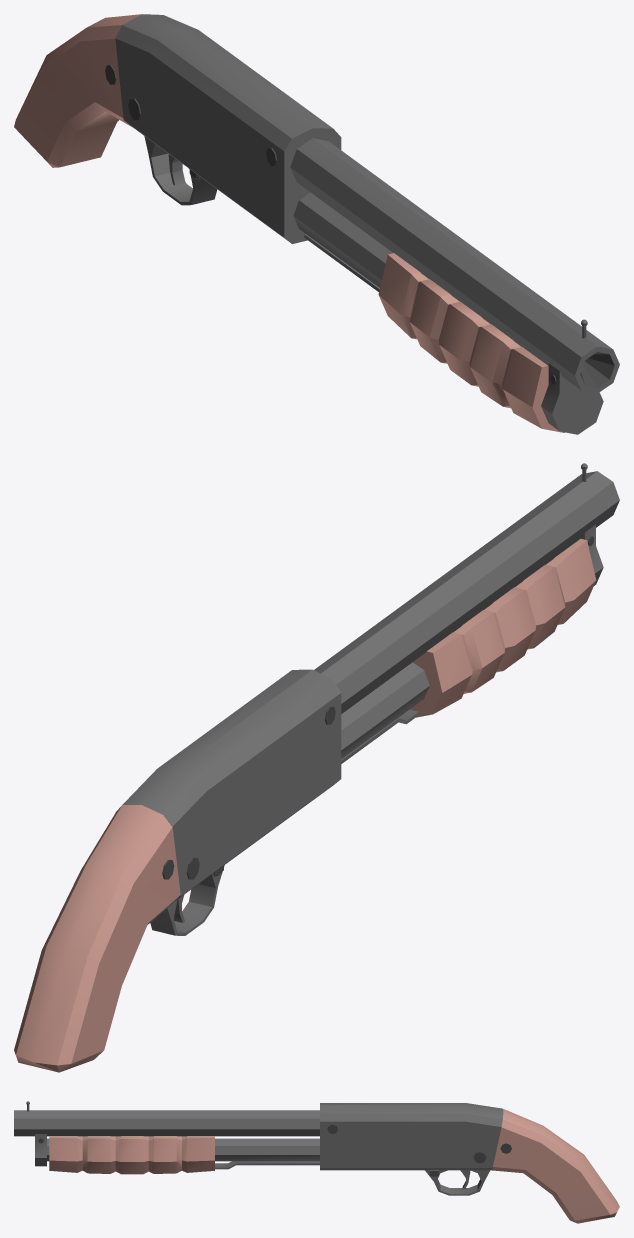
File: shotgun_pump_west.glb
3 views of the same model, one above another, from view 1: azimuth 30°, elevation 25°; view 2: azimuth 150°, elevation 25°; view 3: azimuth 270°, elevation 25° (orthographic). The views are drawn at different scales.
Parts seen in each view (by area): view 1: Shotgun_Pump_West; view 2: Shotgun_Pump_West; view 3: Shotgun_Pump_West.
Boxes of the visible parts, x1,y1,x2,y2 form: Shotgun_Pump_West: [14, 14, 619, 434]; Shotgun_Pump_West: [14, 463, 619, 1072]; Shotgun_Pump_West: [14, 1101, 619, 1223].
Bounding box in the file's own units: 0.0461 × 0.1266 × 0.5966.
